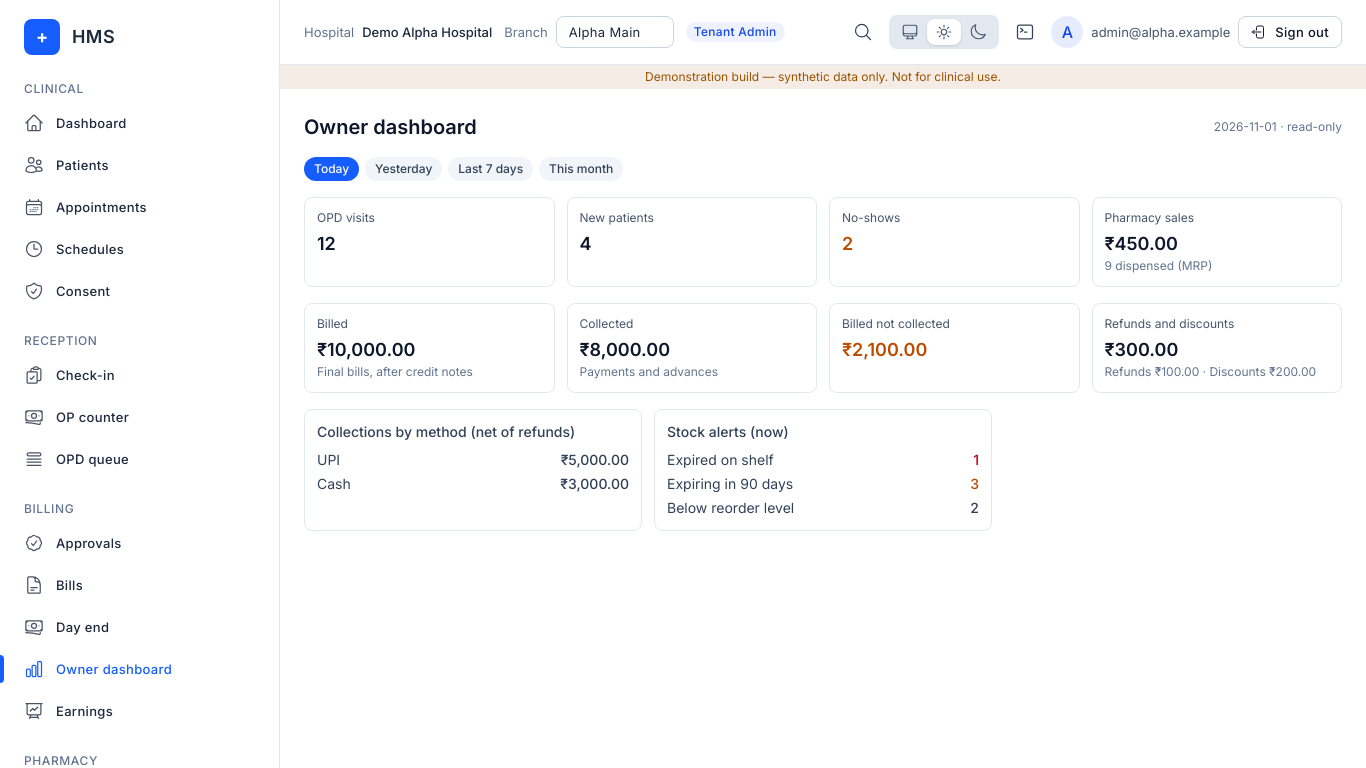
Test case: Owner dashboard › shows today’s KPIs, collections by method and stock alerts on one screen
Expected: the text with test id "kpi-opd-visits" reads "12", top-left (317, 233), bottom-right (336, 254)
Expected: the text with test id "kpi-new-patients" reads "4", top-left (580, 233), bottom-right (592, 254)
Click the button with test id "owner-range-7d". click: point(491, 169)
box: top-left (448, 157), bottom-right (533, 181)
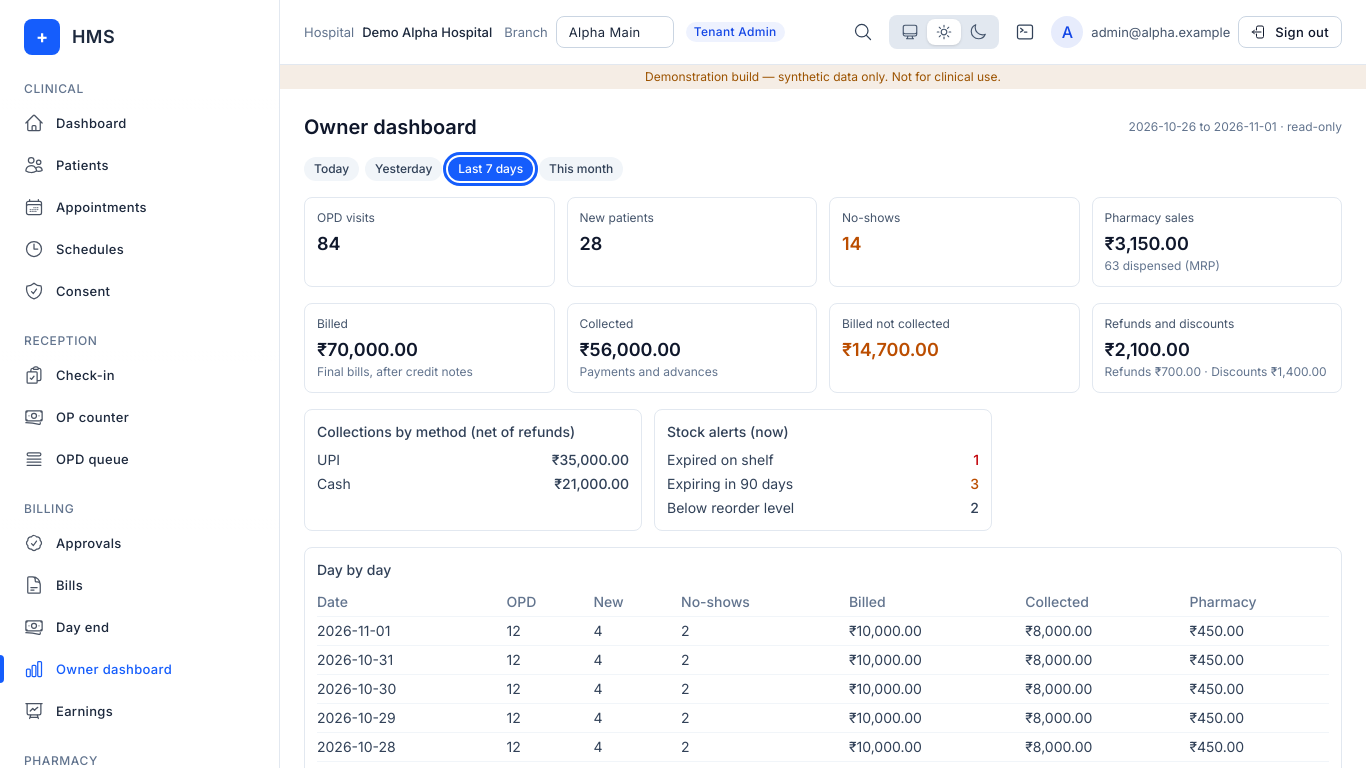
Expected: the number of rows with test id "kpi-day" is 7
Expected: the text with test id "kpi-opd-visits" reads "84", top-left (317, 233), bottom-right (340, 254)
